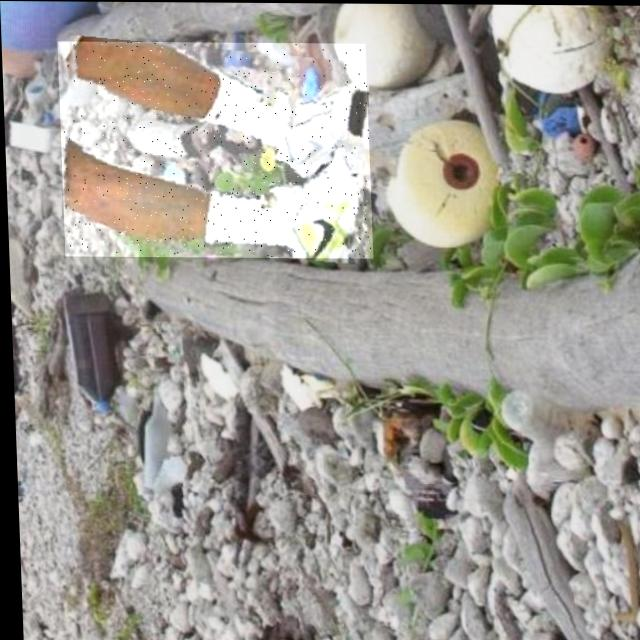Person in Rubble: (57, 40, 371, 257)
